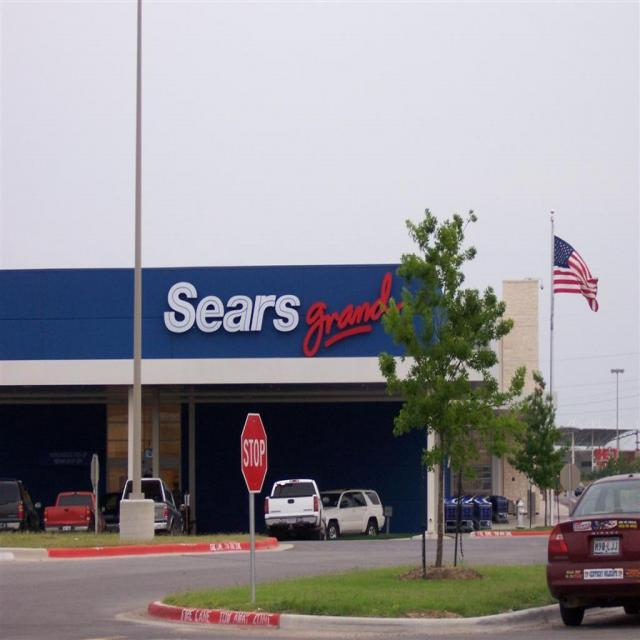other: (545, 472, 639, 628), (120, 475, 183, 537), (320, 488, 386, 539), (0, 477, 42, 533)
